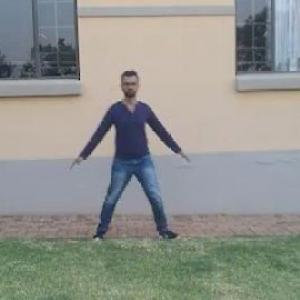land: (60, 66, 196, 245)
